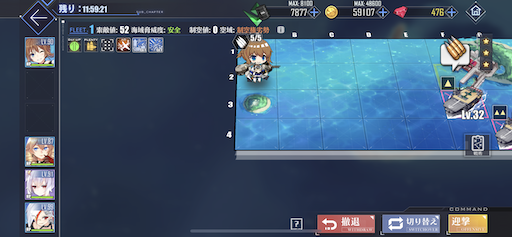lv1: (438, 74, 488, 117)
lv2: (490, 101, 511, 150)
